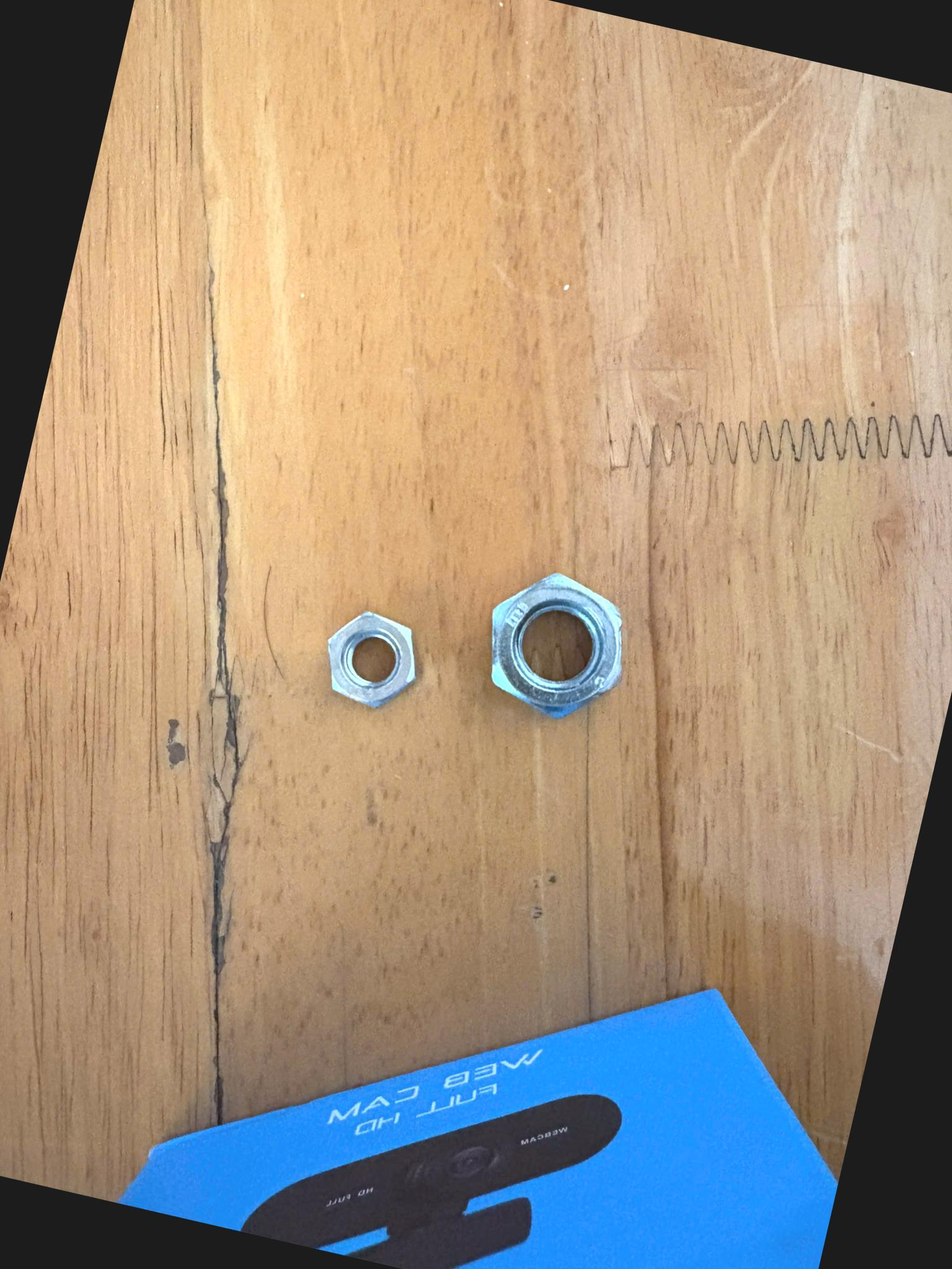nut: (450, 546, 660, 752), (296, 592, 439, 728)
